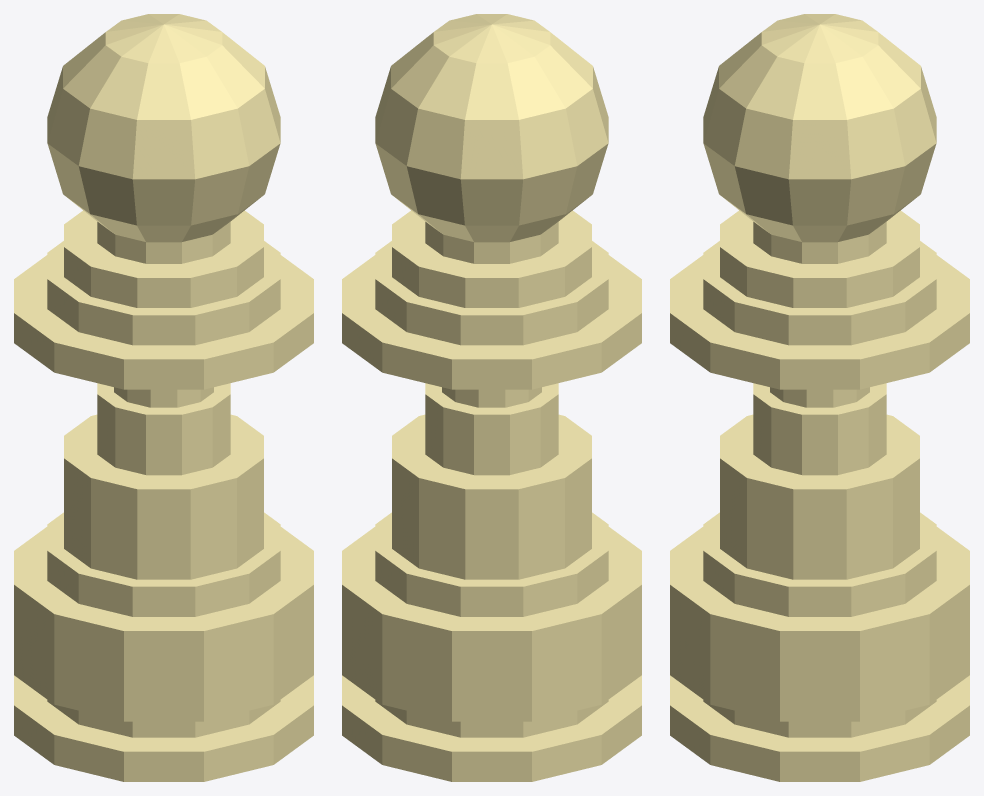
File: Pion.dae
3 views of the same model, side by side, from view 1: azimuth 30°, elevation 25°; view 2: azimuth 150°, elevation 25°; view 3: azimuth 270°, elevation 25° (orthographic).
Parts seen in each view (by area): view 1: tube (×11), sphere; view 2: tube (×11), sphere; view 3: tube (×11), sphere.
Part boxes in pixels (left/top/right/bottom): tube (×11): left=14, top=210, right=313, bottom=781; sphere: left=47, top=14, right=280, bottom=242; tube (×11): left=342, top=210, right=641, bottom=781; sphere: left=375, top=14, right=608, bottom=242; tube (×11): left=670, top=210, right=969, bottom=781; sphere: left=703, top=14, right=936, bottom=242.
Size of the model in its own units: 0.5625 by 1.44 by 0.5625.
1 material, 1 textured.
